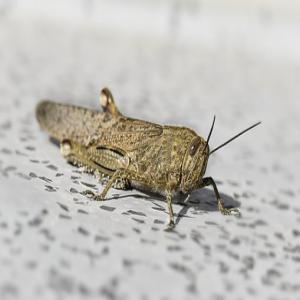locust: (42, 77, 234, 210)
